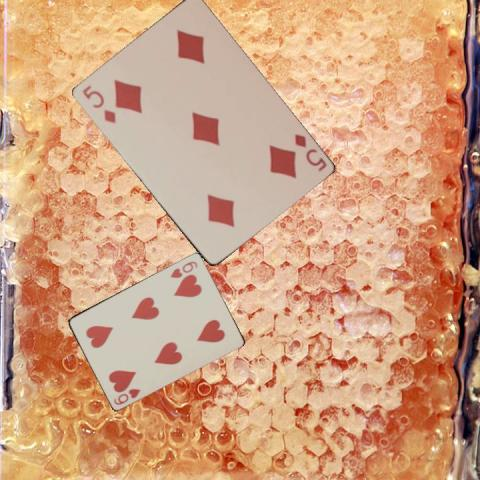5d: (79, 82, 117, 125), (291, 130, 328, 172)
6h: (167, 258, 199, 279), (111, 385, 141, 406)
